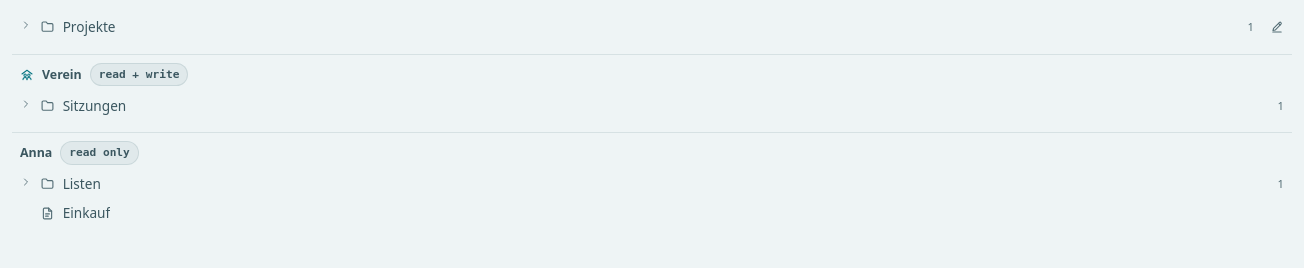
Test: the menu on a note › runs the entry that was chosen
Click the list item "Projekte 1": (89, 26) [12,12,1262,42]
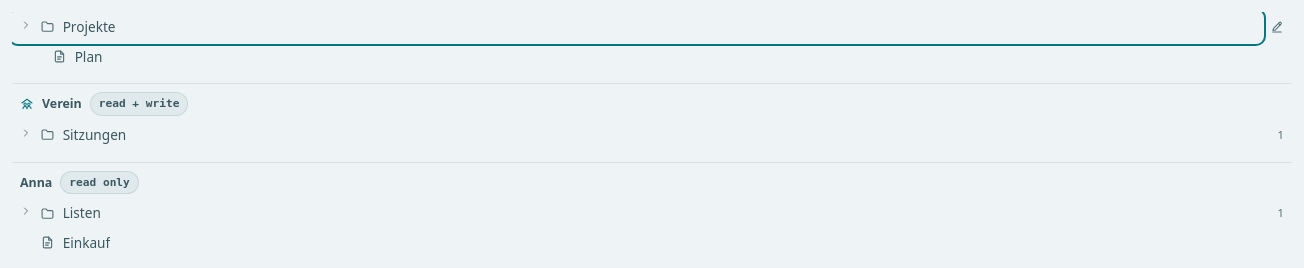
Right-click the list item "Plan": (59, 56) [24,42,1200,71]
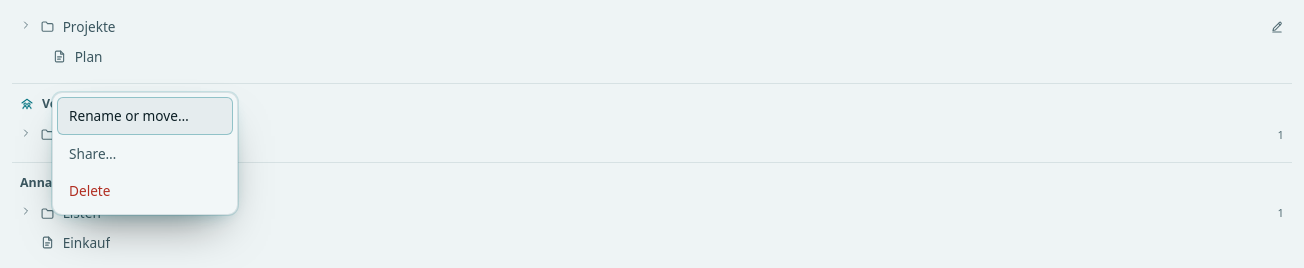
Click the menu item "Delete": (145, 191) [57,172,233,210]
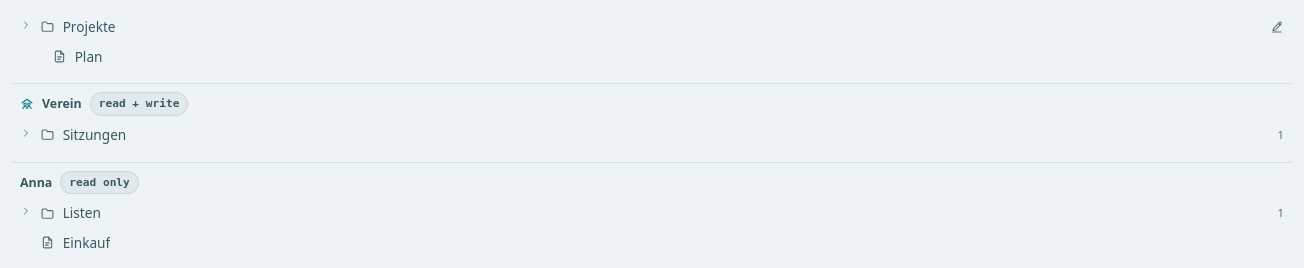
Check: the menu is gone
